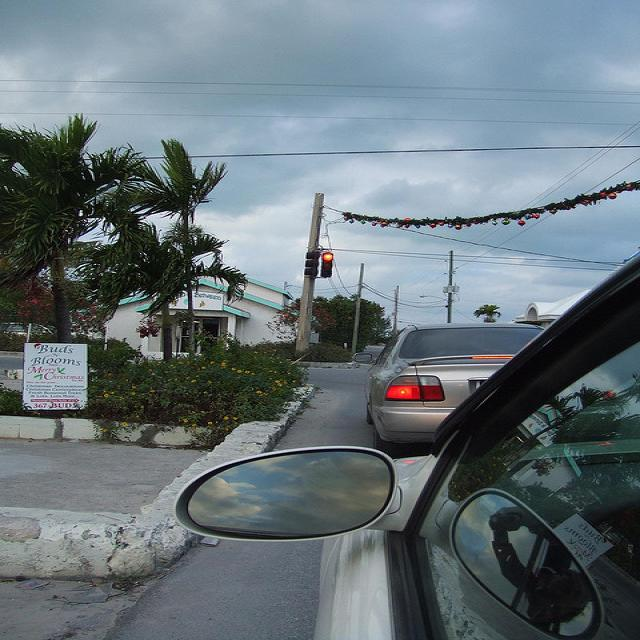Vehicle: (188, 258, 631, 632), (353, 322, 547, 459), (314, 538, 409, 638)
